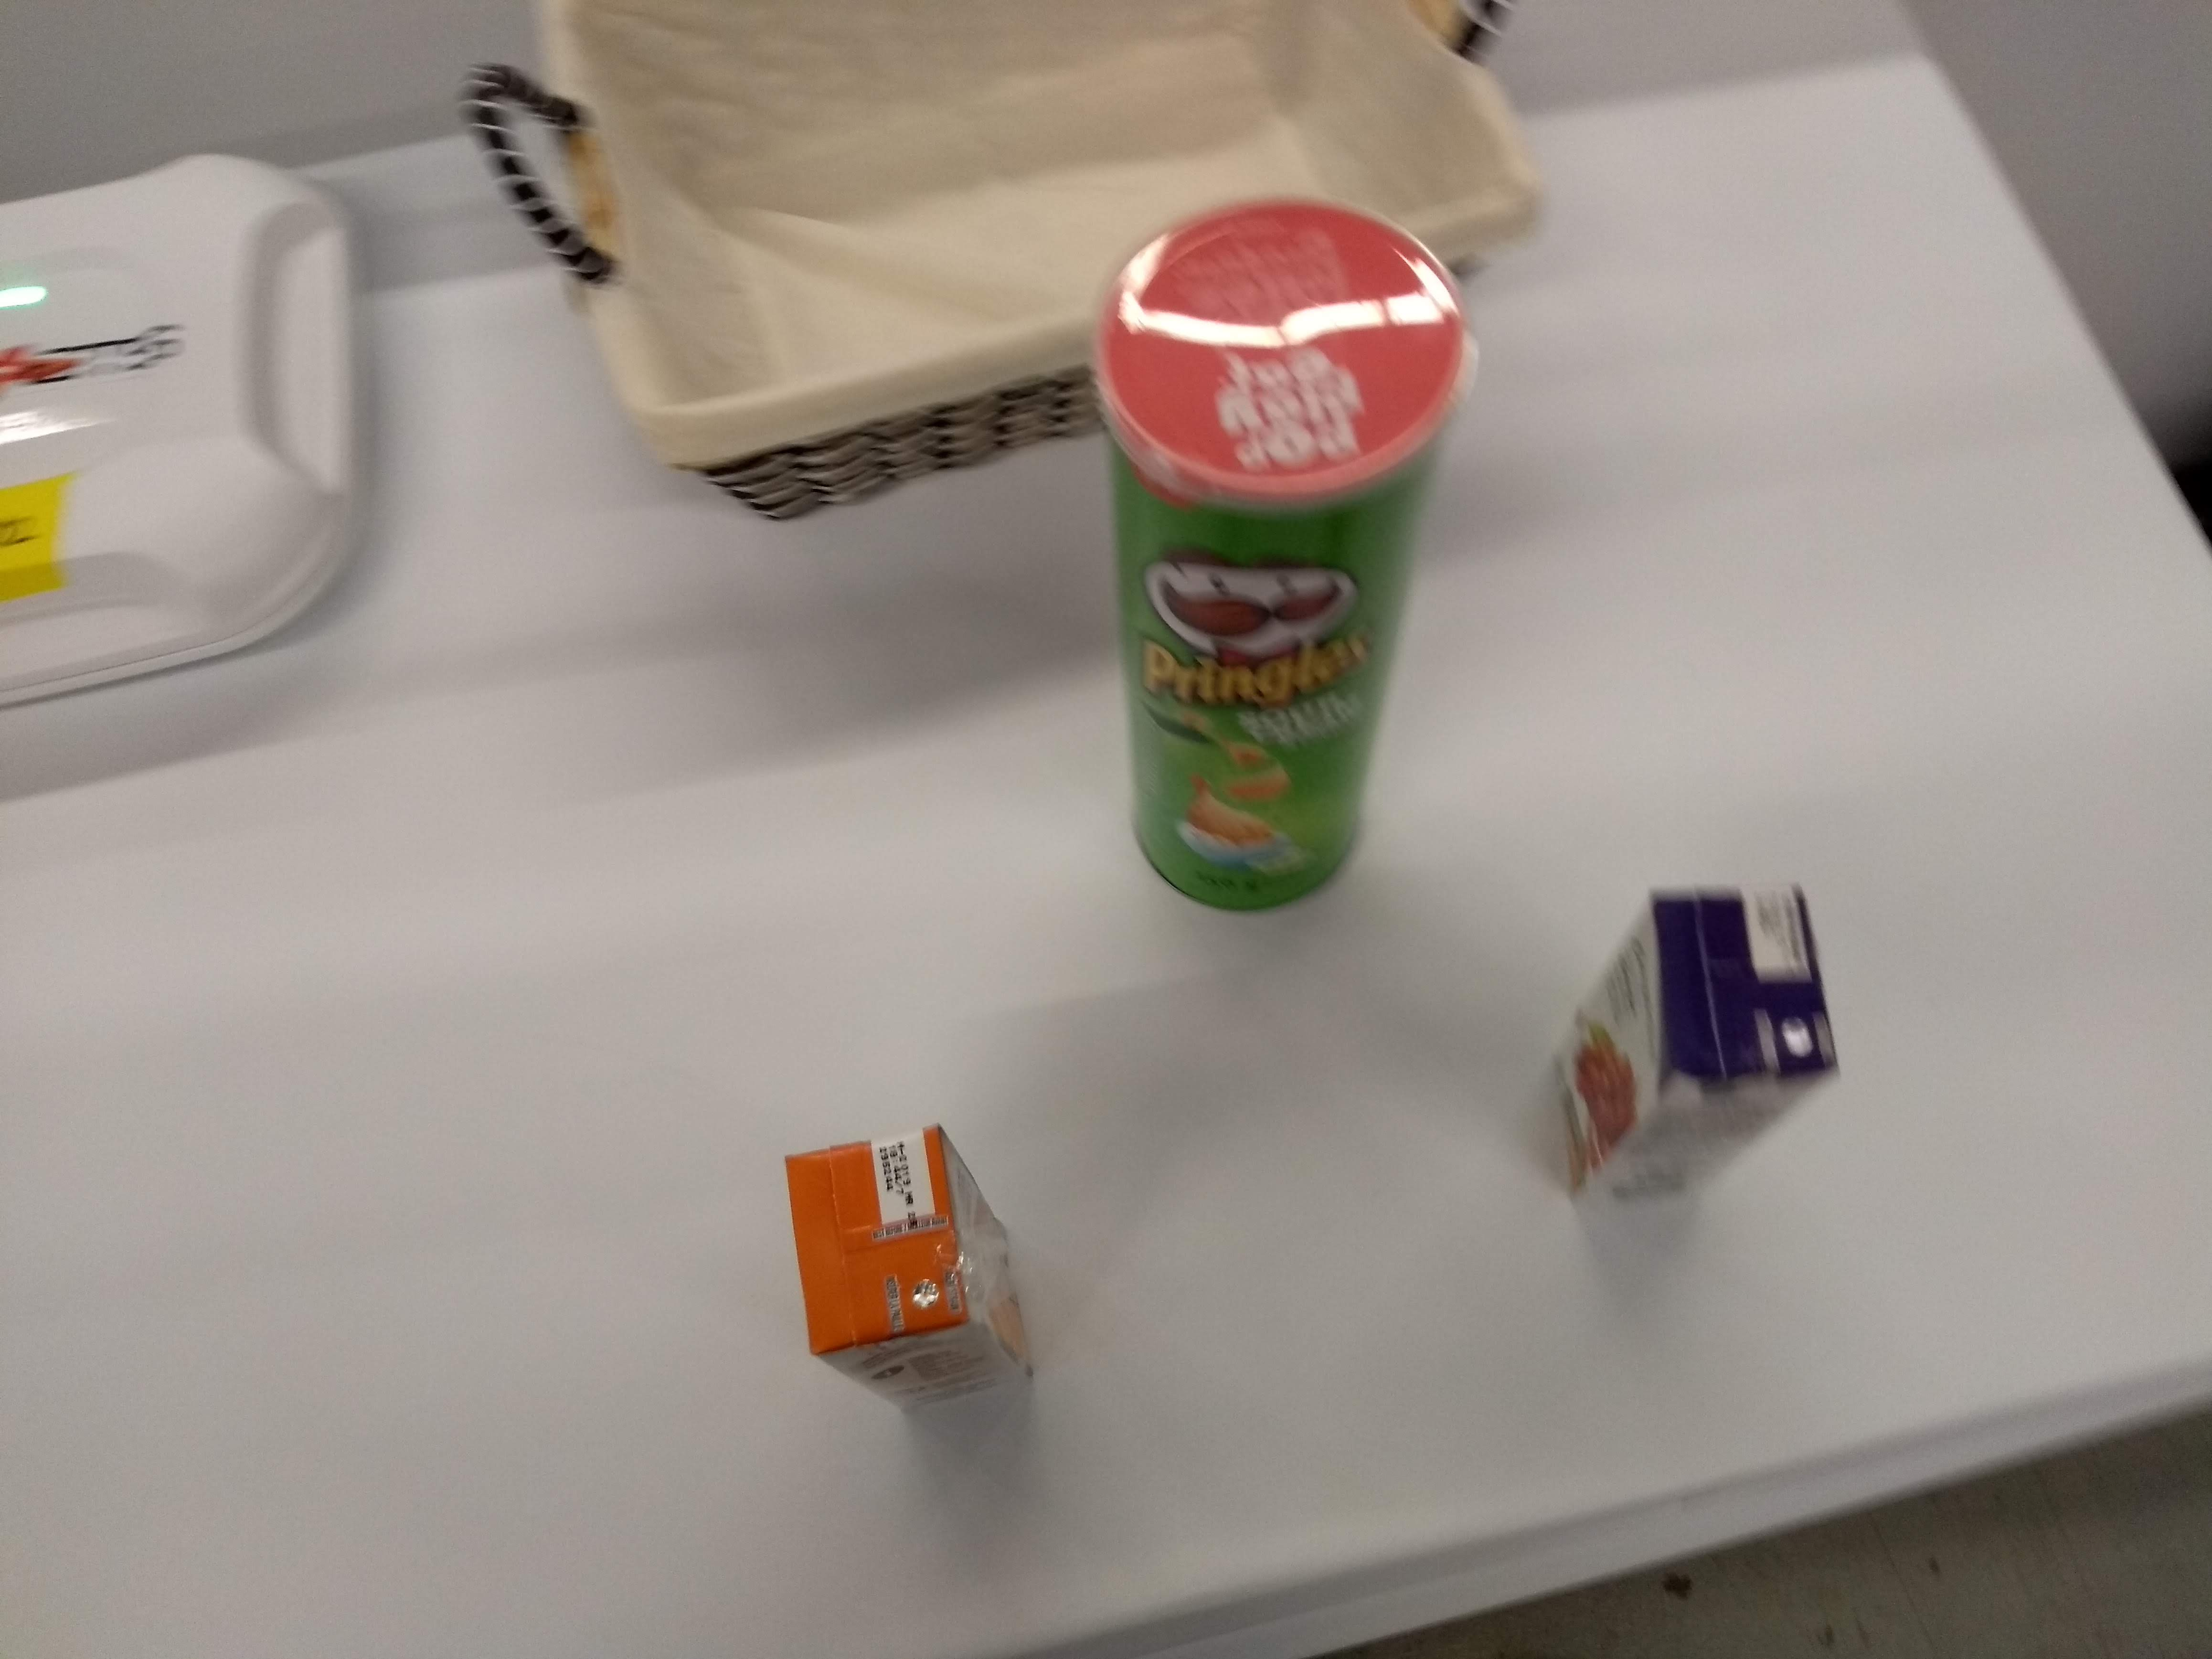grape_juice: (1524, 870, 1858, 1225)
orange_juice: (775, 1112, 1049, 1425)
pringles: (1078, 183, 1487, 925)
